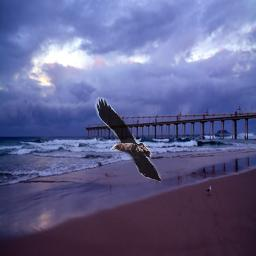Crow: (95, 97, 162, 183)
